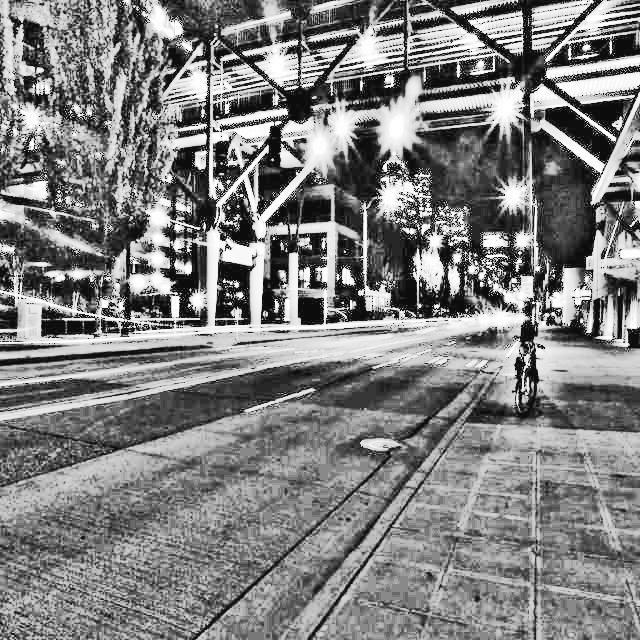Bicycle: (501, 326, 552, 411)
